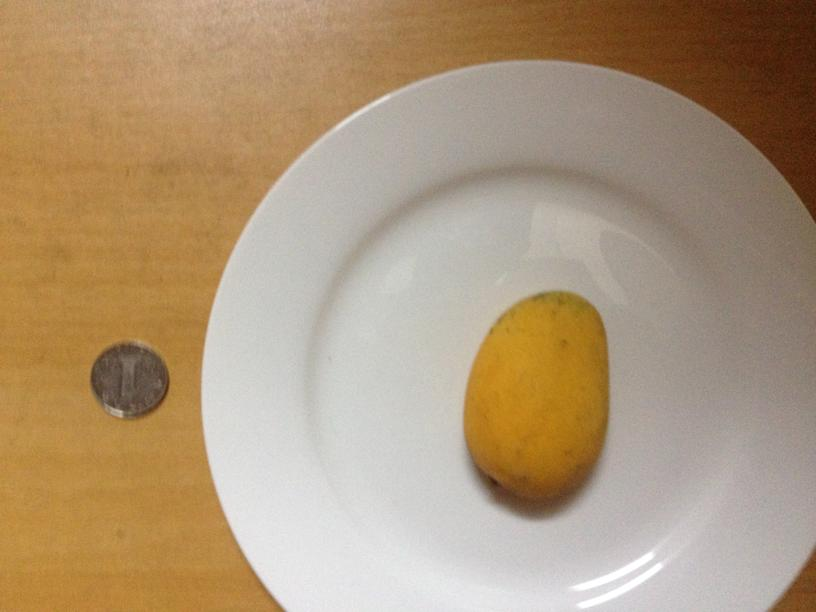coin: (89, 342, 168, 417)
mango: (461, 291, 608, 498)
